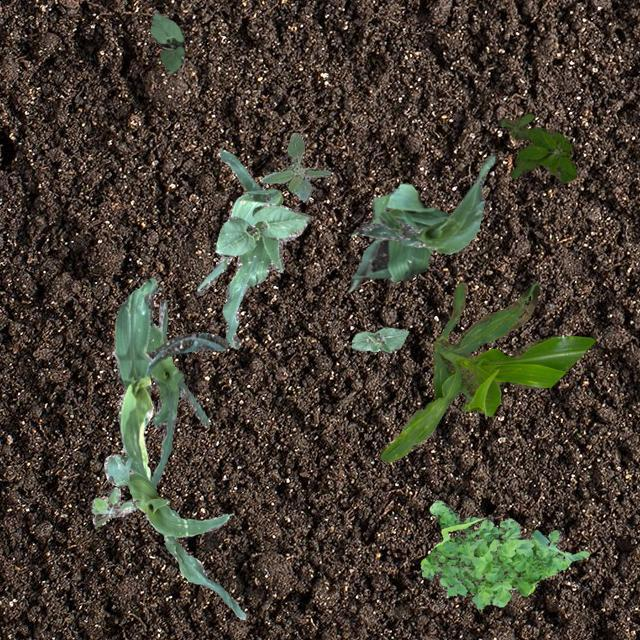crop: (378, 282, 594, 460), (110, 278, 228, 480), (103, 454, 245, 618), (196, 148, 284, 348), (358, 152, 493, 254), (146, 298, 208, 488), (346, 182, 448, 290), (214, 202, 310, 255), (148, 8, 184, 74), (351, 326, 407, 352)
weed: (420, 500, 588, 610), (498, 112, 576, 182), (260, 132, 330, 200), (90, 487, 136, 528)
